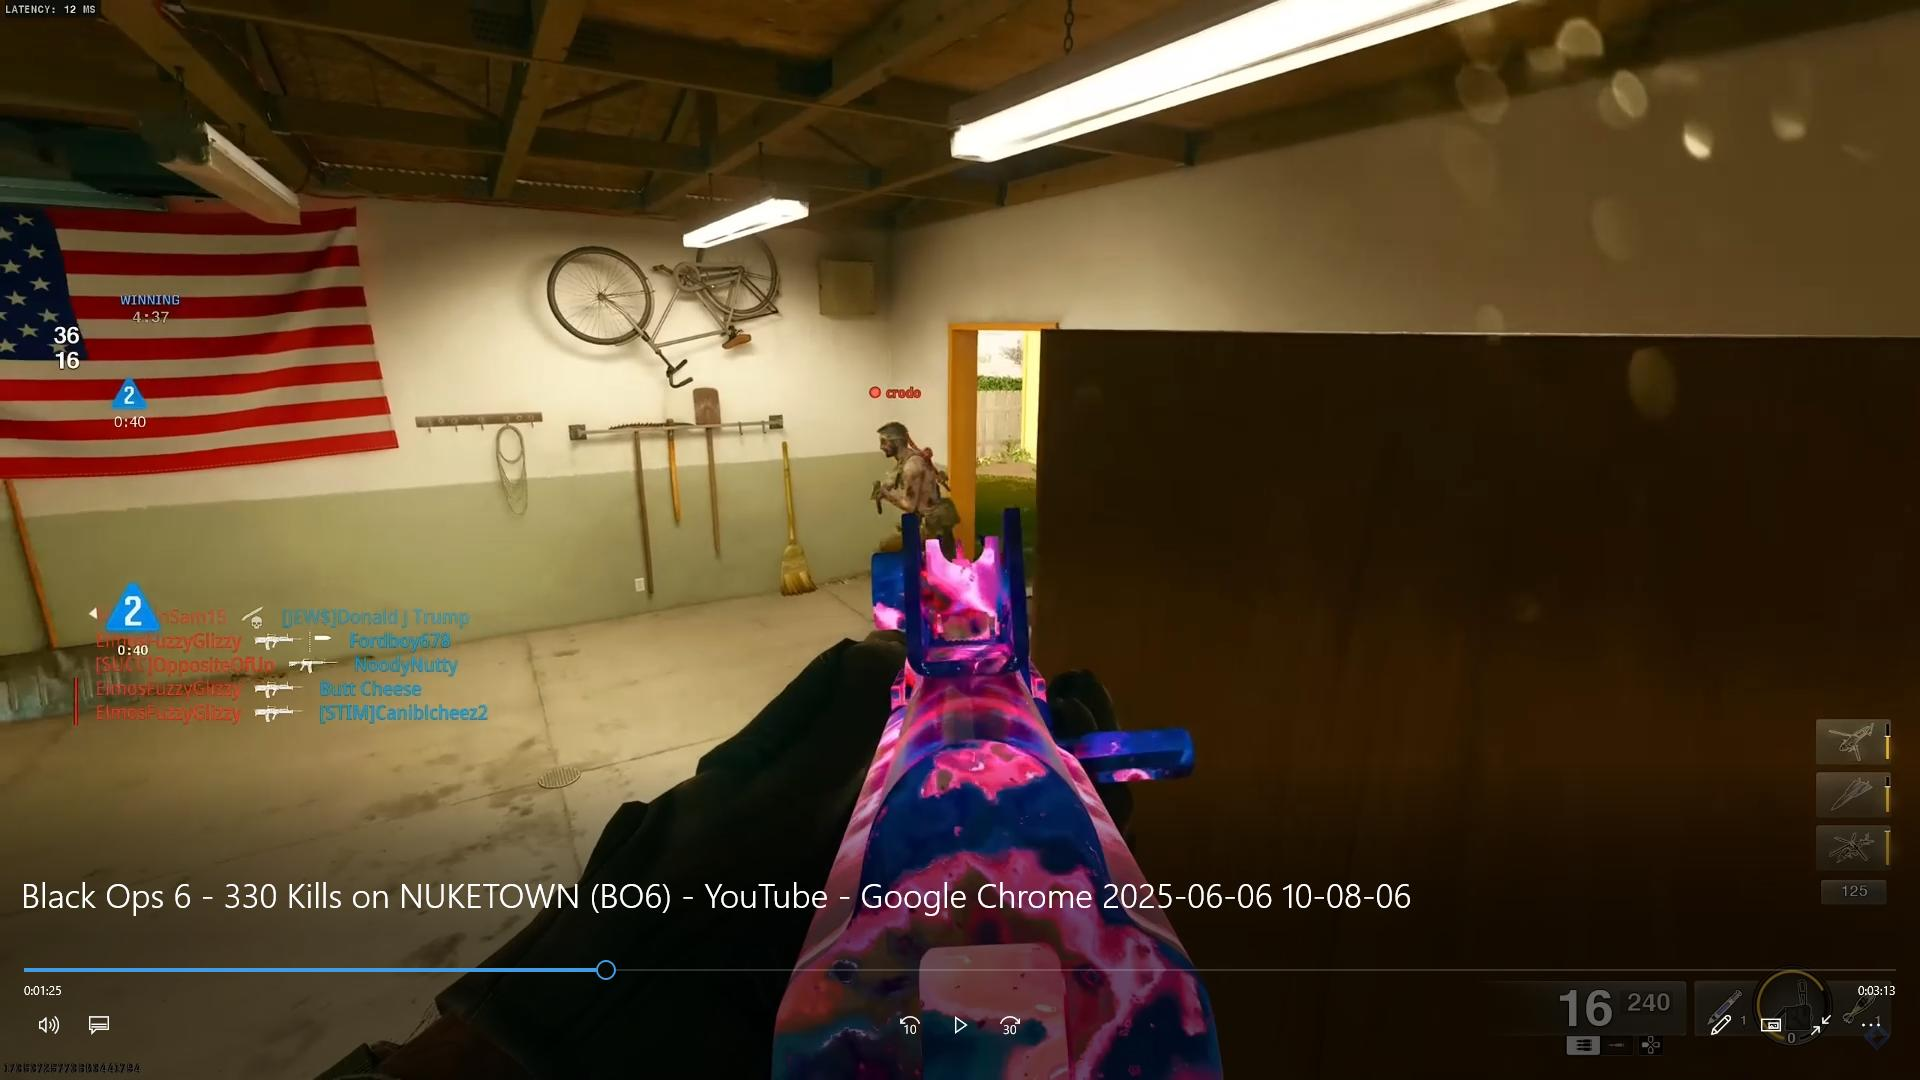Enemy: (833, 360, 980, 538)
